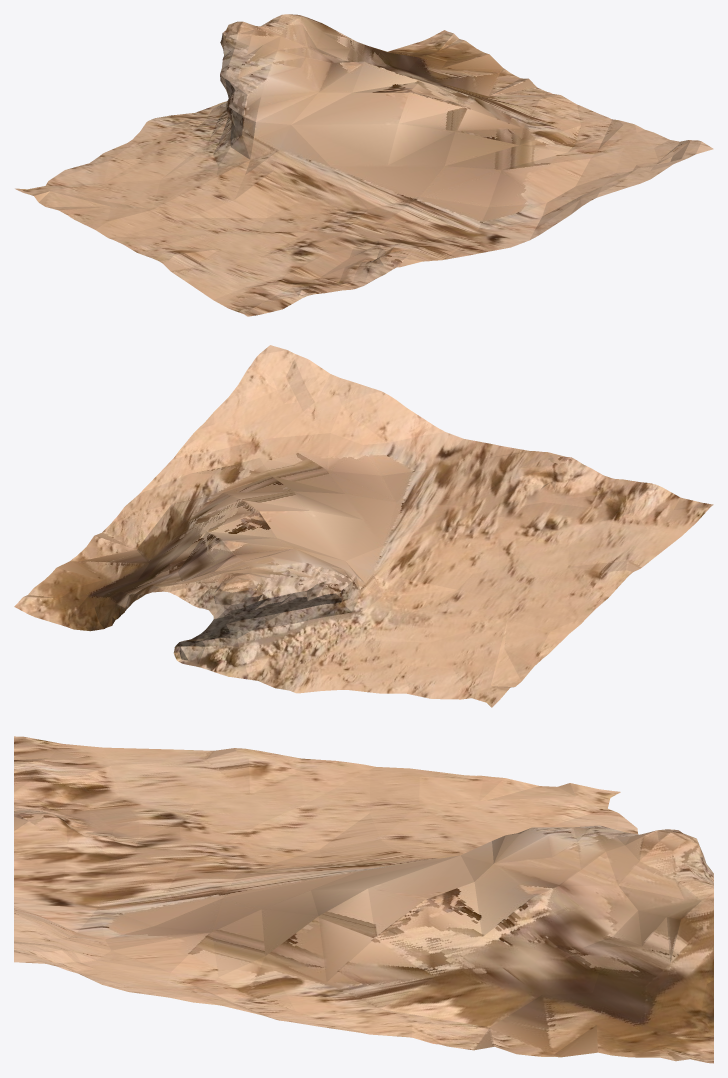
The picture shows the model from 3 angles, top to bottom: view 1: azimuth 30°, elevation 25°; view 2: azimuth 150°, elevation 25°; view 3: azimuth 270°, elevation 25°; orthographic projection. The views are drawn at different scales.
Bounding box in the file's own units: 1.04 × 0.2068 × 1.04.
2 materials, 2 textured.
